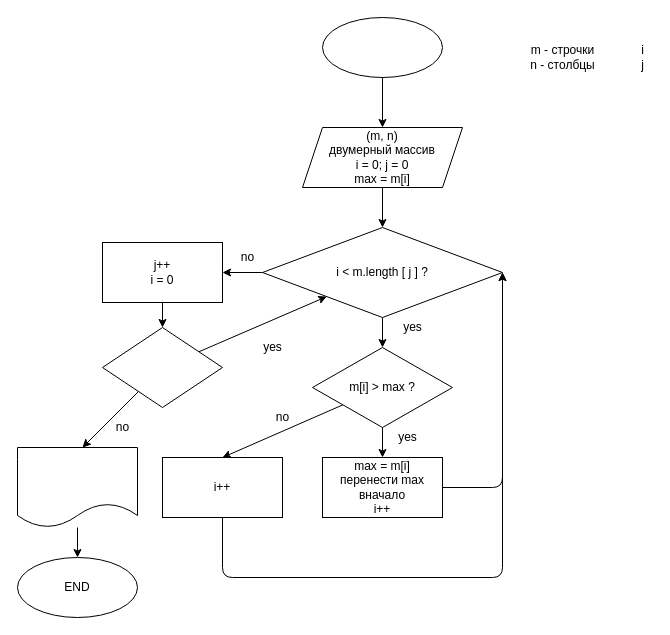
Some shapes in this 670 by 635 pixel diagram are drawn without their labels. Here are the shapes that lost their labels. From the top down, the centre of each, then its label:
point (382, 47): START
point (162, 367): j < n.Length [ i ]
point (77, 487): print new двумерный массив
